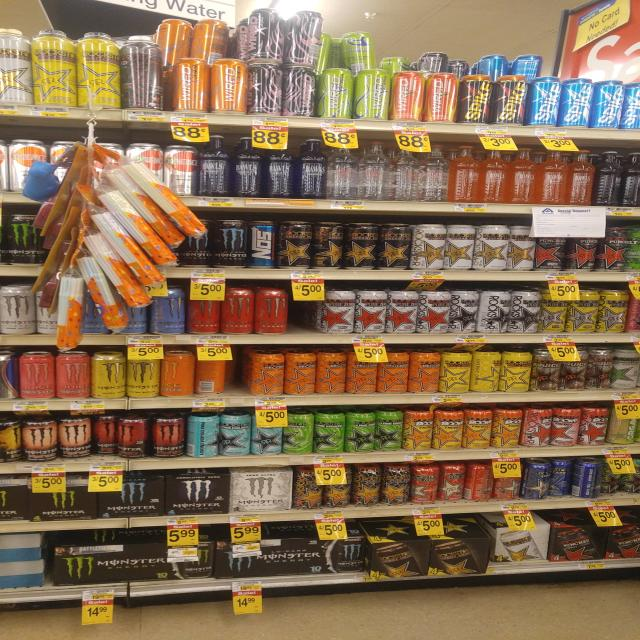empty: (284, 296, 323, 336)
